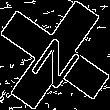N_NE: (24, 23, 86, 87)
